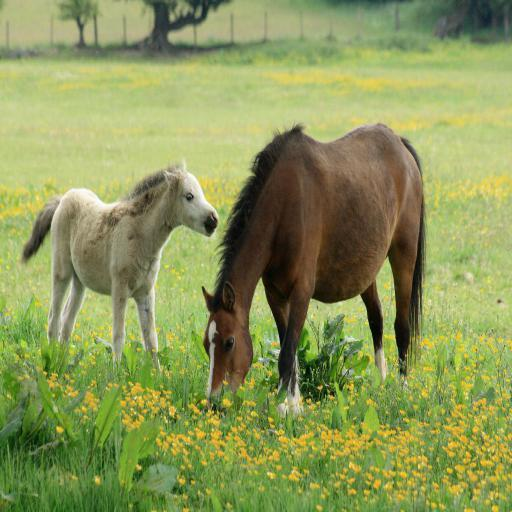Horse: (203, 118, 431, 411), (21, 157, 218, 372)
